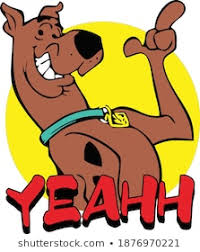scooby: (1, 1, 195, 176)
